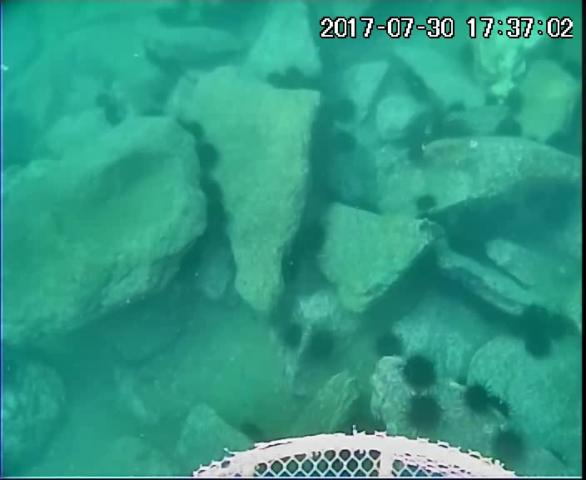echinus: (401, 394, 447, 437), (487, 424, 529, 467), (399, 352, 440, 395), (524, 326, 562, 362), (460, 380, 495, 418), (295, 216, 329, 255), (274, 317, 309, 353), (536, 201, 573, 235), (435, 270, 468, 305), (374, 331, 407, 364), (523, 306, 557, 338), (525, 184, 558, 215), (235, 419, 270, 448), (475, 294, 506, 326), (326, 95, 359, 125), (547, 128, 580, 158), (310, 328, 339, 362), (347, 192, 386, 217), (193, 177, 226, 205), (203, 205, 229, 240), (192, 141, 219, 173), (553, 178, 581, 208), (559, 54, 586, 85), (440, 119, 473, 144), (405, 71, 432, 101), (549, 311, 574, 343), (503, 88, 527, 121), (401, 135, 431, 161), (178, 117, 209, 142), (493, 118, 524, 142), (281, 255, 305, 285), (457, 41, 480, 72), (332, 130, 358, 156), (266, 69, 290, 94), (414, 193, 438, 216), (106, 103, 128, 128), (286, 68, 309, 90), (93, 91, 116, 113), (447, 100, 470, 117)
